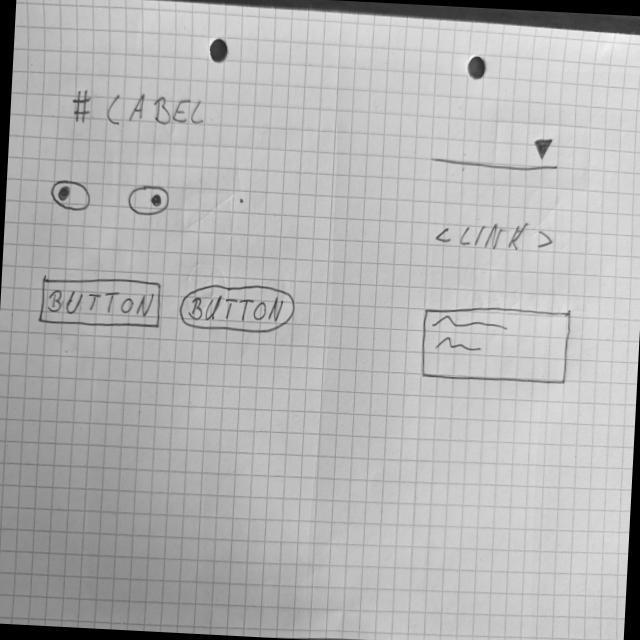button: (39, 274, 164, 333), (178, 280, 299, 338)
label: (72, 88, 209, 134)
link: (434, 216, 556, 255)
select: (429, 129, 563, 177)
textarea: (420, 302, 574, 390)
toggle: (49, 179, 94, 216), (128, 183, 172, 219)
